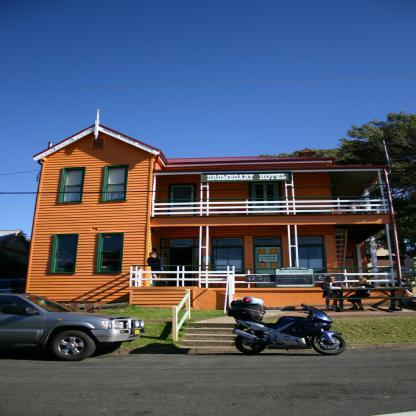car: (0, 288, 137, 359)
motorcycle: (234, 307, 349, 358)
